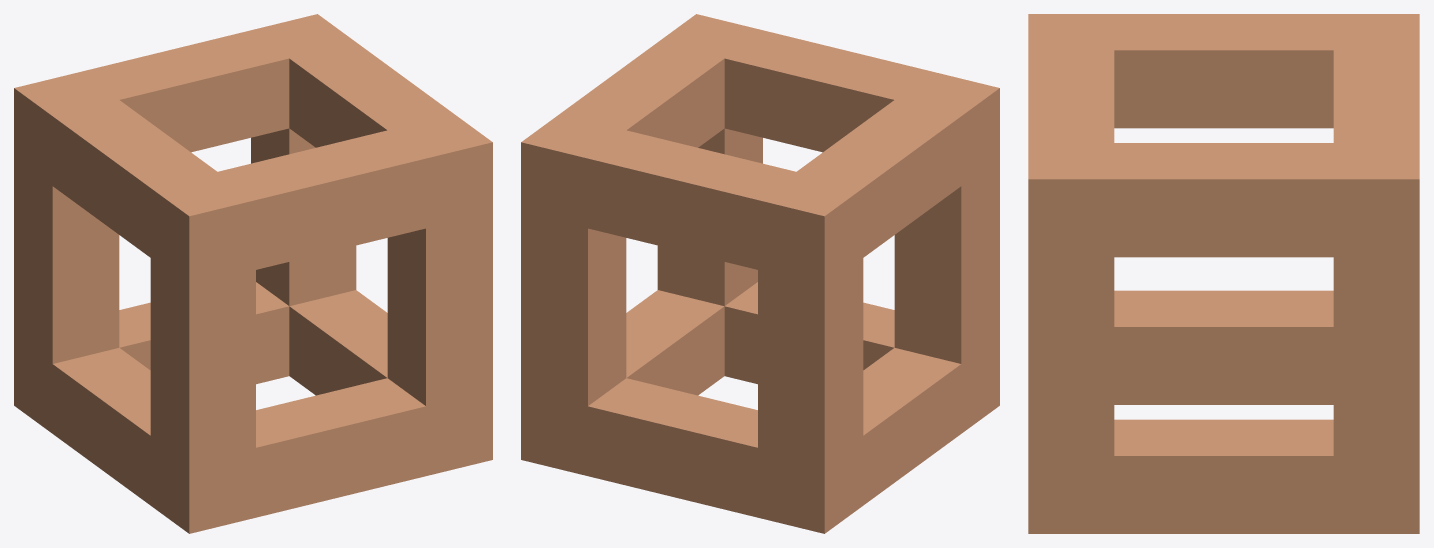
3 renders of one model, left to right at view 1: azimuth 30°, elevation 25°; view 2: azimuth 150°, elevation 25°; view 3: azimuth 270°, elevation 25°, orthographic. The views are drawn at different scales.
Parts seen in each view (by area): view 1: Frame; view 2: Frame; view 3: Frame.
Part boxes in pixels (bbox=[...]): Frame: bbox=[14, 14, 492, 533]; Frame: bbox=[521, 14, 999, 533]; Frame: bbox=[1028, 14, 1419, 533].
Size of the model in its own units: 1 by 1 by 1.
